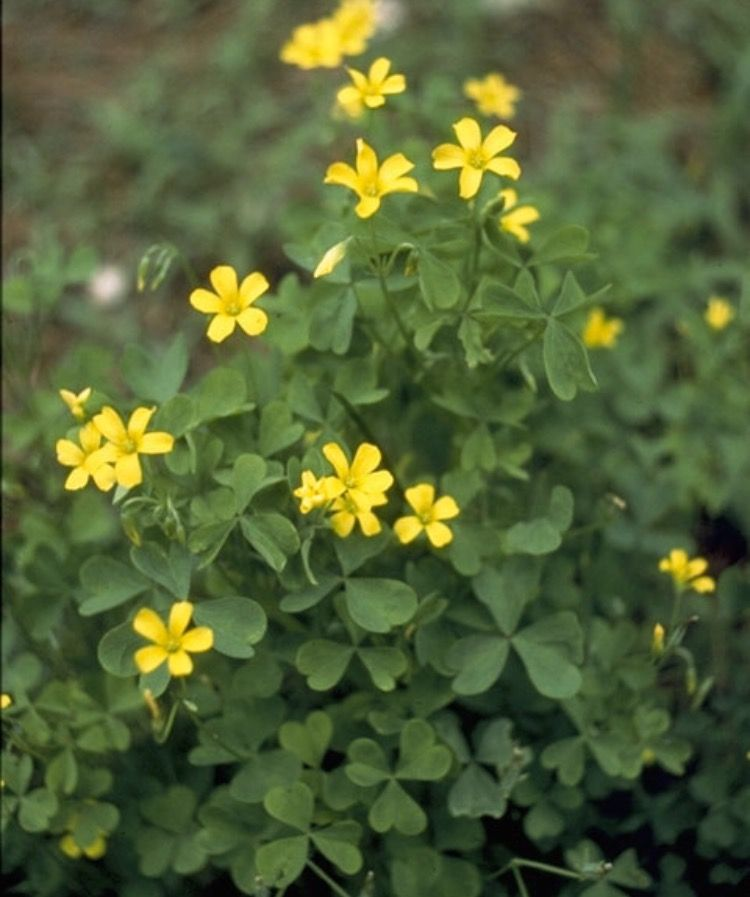oxalis: (40, 211, 644, 833)
